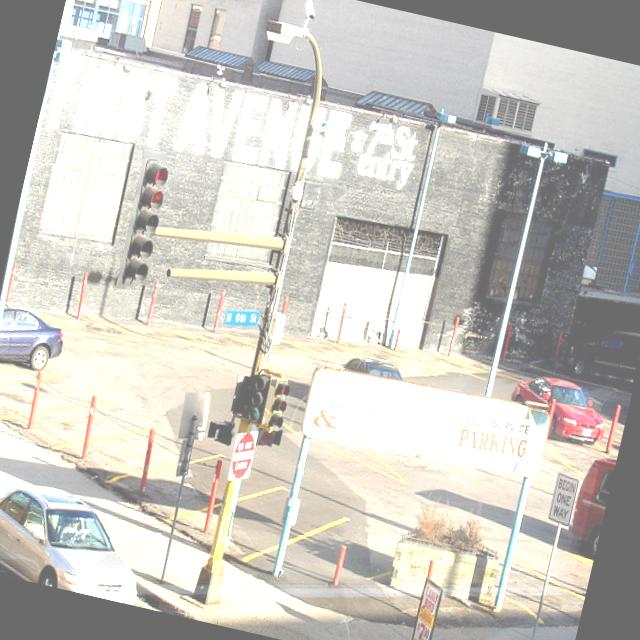Vehicle: (0, 467, 159, 606), (503, 367, 614, 449), (562, 444, 618, 566), (562, 316, 640, 388), (0, 302, 67, 374), (338, 351, 408, 383)
